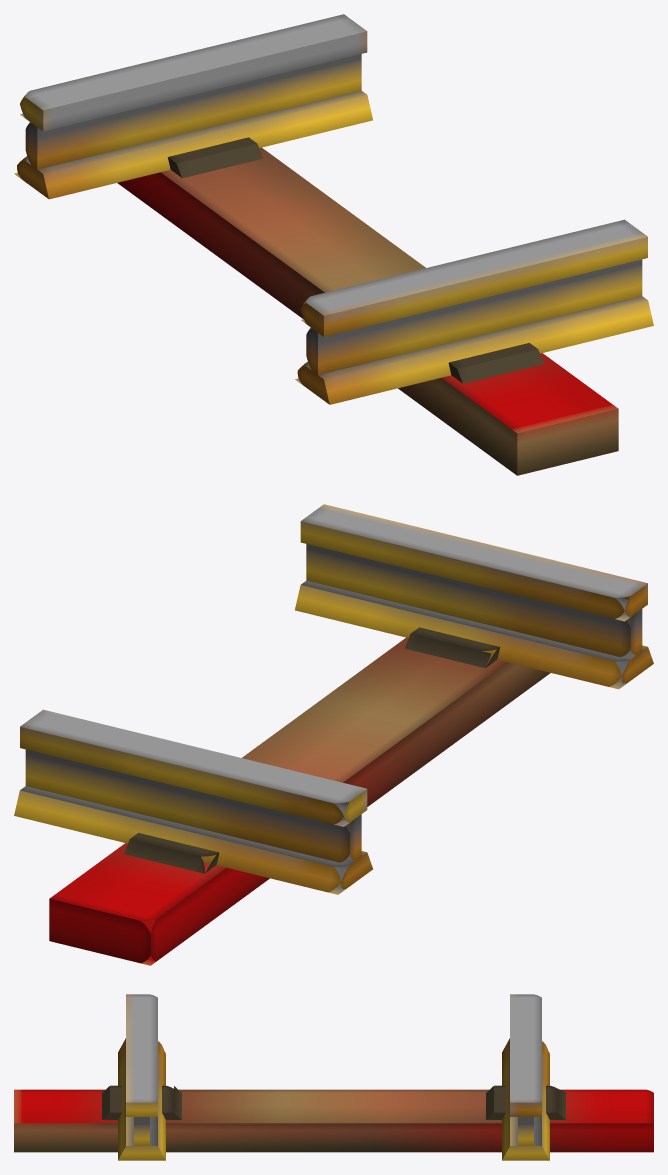
The model's file is redstone_track.obj.
3 views of the same model, one above another, from view 1: azimuth 30°, elevation 25°; view 2: azimuth 150°, elevation 25°; view 3: azimuth 270°, elevation 25° (orthographic). The views are drawn at different scales.
Visible parts, largest first — view 1: RAIL_BASE, RAIL_RIGHT, RAIL_LEFT; view 2: RAIL_BASE, RAIL_RIGHT, RAIL_LEFT; view 3: RAIL_BASE, RAIL_RIGHT, RAIL_LEFT.
Boxes of the visible parts, bbox=[...] form: RAIL_BASE: bbox=[117, 137, 618, 475]; RAIL_RIGHT: bbox=[14, 14, 372, 199]; RAIL_LEFT: bbox=[295, 219, 653, 404]; RAIL_BASE: bbox=[49, 627, 550, 965]; RAIL_RIGHT: bbox=[14, 709, 372, 894]; RAIL_LEFT: bbox=[295, 504, 653, 689]; RAIL_BASE: bbox=[14, 1085, 653, 1152]; RAIL_RIGHT: bbox=[502, 994, 549, 1160]; RAIL_LEFT: bbox=[118, 994, 165, 1160].
Bounding box in the file's own units: 1 × 0.375 × 2.5.
1 material, 1 textured.
